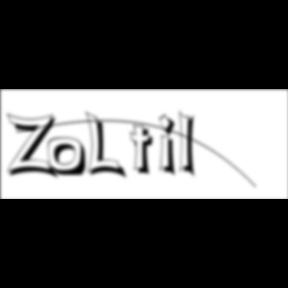L: (85, 110, 129, 182)
Z: (7, 112, 62, 181)
i: (159, 112, 183, 180)
l: (180, 108, 202, 182)
o: (48, 137, 90, 179)
t: (130, 124, 162, 179)
